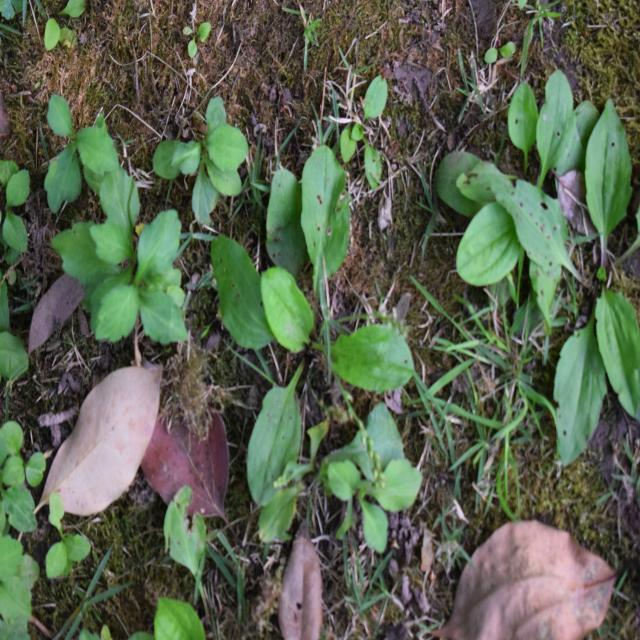plantain: (399, 84, 640, 418), (215, 187, 420, 486)
